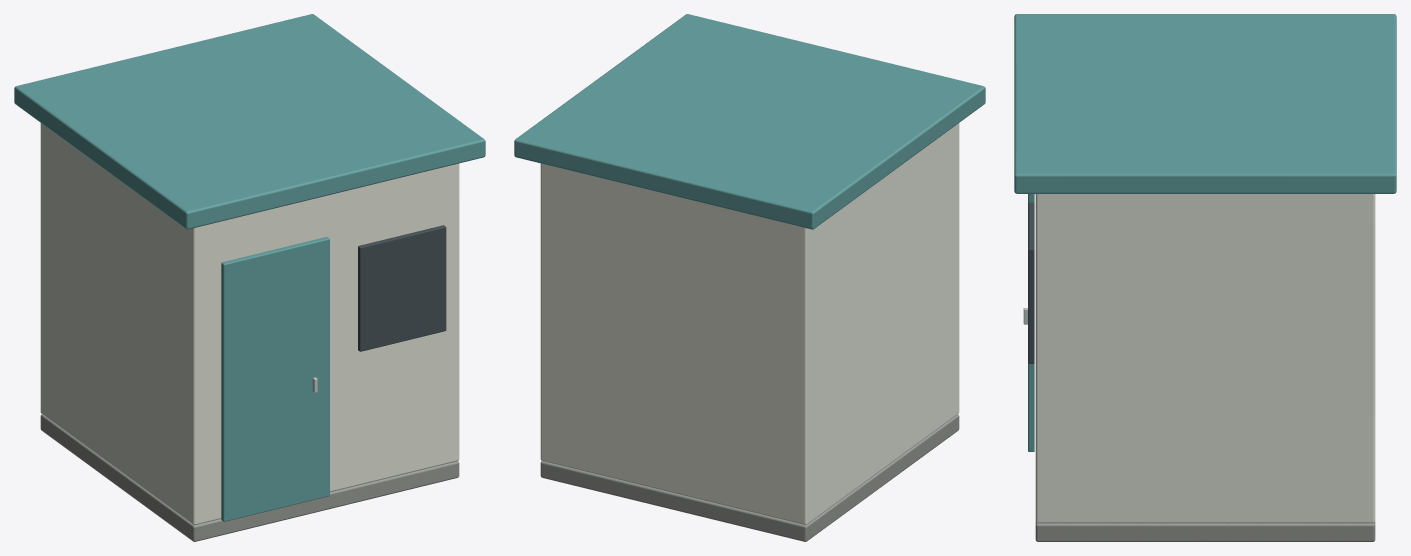
The model's file is hydroelectric-dam-infiltration-guard-cabin-0c4696bb__29373.glb.
The picture shows the model from 3 angles, left to right: view 1: azimuth 30°, elevation 25°; view 2: azimuth 150°, elevation 25°; view 3: azimuth 270°, elevation 25°; orthographic projection. The views are drawn at different scales.
Visible parts, largest first — view 1: guard-cabin; view 2: guard-cabin; view 3: guard-cabin.
Part boxes in pixels (bbox=[...]): guard-cabin: bbox=[14, 14, 485, 541]; guard-cabin: bbox=[514, 14, 985, 541]; guard-cabin: bbox=[1014, 14, 1396, 541].
Bounding box in the file's own units: 2.25 × 2.45 × 2.25.
Materials: 5 (1 with a texture image).
